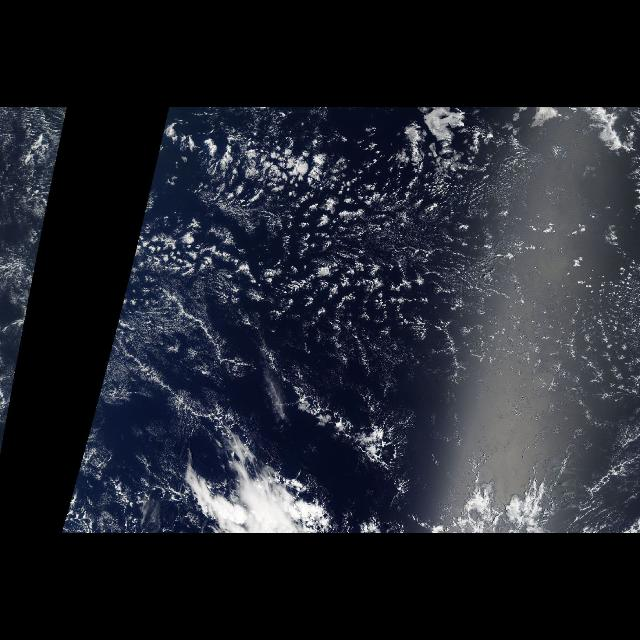Flower: (178, 115, 626, 392)
Sugar: (398, 188, 630, 412)
